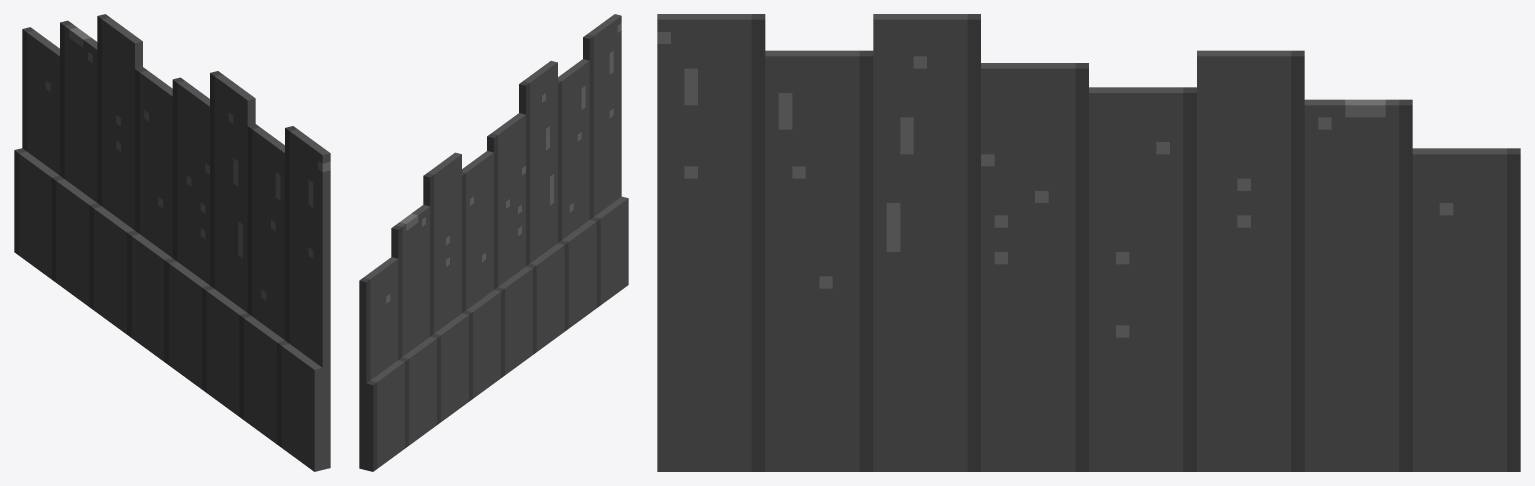
File: woodenFence.glb
3 renders of one model, left to right at view 1: azimuth 30°, elevation 25°; view 2: azimuth 150°, elevation 25°; view 3: azimuth 270°, elevation 25°, orthographic. The views are drawn at different scales.
Visible parts, largest first — view 1: ObjObject; view 2: ObjObject; view 3: ObjObject.
Part boxes in pixels (x1,y1,x2,y2): ObjObject: [14, 14, 330, 471]; ObjObject: [359, 14, 628, 471]; ObjObject: [657, 14, 1520, 471].
Size of the model in its own units: 0.2 by 3.7 by 6.4.
Materials: 1 (1 with a texture image).
